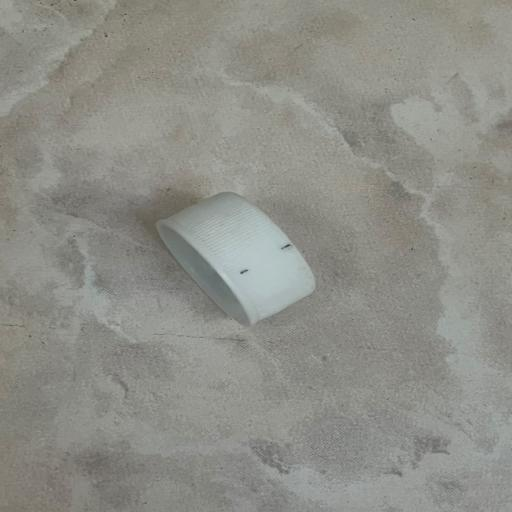HDPE: (91, 138, 416, 418)
